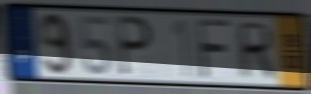1: (171, 18, 192, 79)
5: (78, 14, 112, 77)
9: (37, 11, 73, 77)
F: (194, 16, 233, 82)
P: (116, 14, 155, 79)
R: (237, 21, 276, 81)
